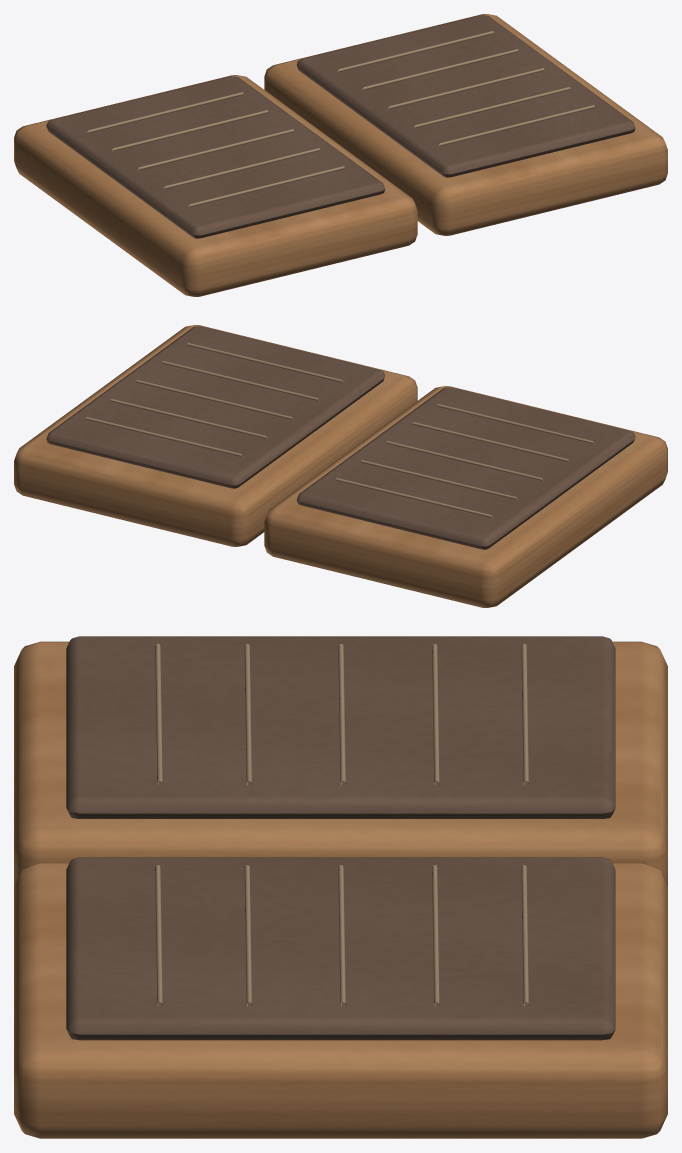
Rendered from 10-wachstafel-offen.glb.
3 views of the same model, one above another, from view 1: azimuth 30°, elevation 25°; view 2: azimuth 150°, elevation 25°; view 3: azimuth 270°, elevation 25° (orthographic). The views are drawn at different scales.
Visible parts, largest first — view 1: Recessed wax, Recessed wax.001, Wooden leaf, Wooden leaf.001, Subtle wax ruling, Subtle wax ruling.006, Subtle wax ruling.003, Subtle wax ruling.004, Subtle wax ruling.008, Subtle wax ruling.001, Subtle wax ruling.005, Subtle wax ruling.007 (+2 smaller); view 2: Recessed wax, Recessed wax.001, Wooden leaf, Wooden leaf.001, Subtle wax ruling, Subtle wax ruling.004, Subtle wax ruling.006, Subtle wax ruling.008, Subtle wax ruling.001, Subtle wax ruling.003, Subtle wax ruling.005, Subtle wax ruling.007 (+2 smaller); view 3: Recessed wax.001, Recessed wax, Wooden leaf.001, Wooden leaf, Subtle wax ruling.001, Subtle wax ruling.006, Subtle wax ruling.003, Subtle wax ruling.005, Subtle wax ruling.007, Subtle wax ruling.008, Subtle wax ruling.002, Subtle wax ruling (+2 smaller).
Part boxes in pixels (left/top/right/bottom): Recessed wax: left=46, top=76, right=385, bottom=238; Recessed wax.001: left=297, top=15, right=635, bottom=177; Wooden leaf: left=14, top=75, right=417, bottom=296; Wooden leaf.001: left=264, top=14, right=667, bottom=235; Subtle wax ruling: left=188, top=166, right=344, bottom=206; Subtle wax ruling.006: left=414, top=87, right=570, bottom=127; Subtle wax ruling.003: left=112, top=110, right=268, bottom=151; Subtle wax ruling.004: left=87, top=92, right=243, bottom=132; Subtle wax ruling.008: left=362, top=49, right=518, bottom=89; Subtle wax ruling.001: left=164, top=148, right=319, bottom=188; Subtle wax ruling.005: left=438, top=105, right=594, bottom=145; Subtle wax ruling.007: left=388, top=68, right=544, bottom=108; Recessed wax: left=296, top=387, right=635, bottom=549; Recessed wax.001: left=46, top=326, right=384, bottom=488; Wooden leaf: left=264, top=386, right=667, bottom=607; Wooden leaf.001: left=14, top=325, right=417, bottom=546; Subtle wax ruling: left=437, top=404, right=594, bottom=443; Subtle wax ruling.004: left=336, top=478, right=493, bottom=517; Subtle wax ruling.006: left=162, top=361, right=319, bottom=400; Subtle wax ruling.008: left=110, top=399, right=267, bottom=438; Subtle wax ruling.001: left=412, top=422, right=569, bottom=462; Subtle wax ruling.003: left=360, top=460, right=517, bottom=499; Subtle wax ruling.005: left=187, top=343, right=344, bottom=382; Subtle wax ruling.007: left=136, top=380, right=293, bottom=419; Recessed wax.001: left=66, top=857, right=615, bottom=1040; Recessed wax: left=66, top=636, right=615, bottom=818; Wooden leaf.001: left=14, top=863, right=667, bottom=1138; Wooden leaf: left=14, top=641, right=667, bottom=886; Subtle wax ruling.001: left=244, top=643, right=252, bottom=785; Subtle wax ruling.006: left=244, top=865, right=252, bottom=1006; Subtle wax ruling.003: left=432, top=643, right=439, bottom=785; Subtle wax ruling.005: left=155, top=865, right=162, bottom=1006; Subtle wax ruling.007: left=338, top=865, right=345, bottom=1006; Subtle wax ruling.008: left=432, top=865, right=439, bottom=1006; Subtle wax ruling.002: left=338, top=644, right=345, bottom=785; Subtle wax ruling: left=155, top=644, right=162, bottom=784.
Size of the model in its own units: 0.465 by 0.0568 by 0.3.
4 materials, 3 textured.
